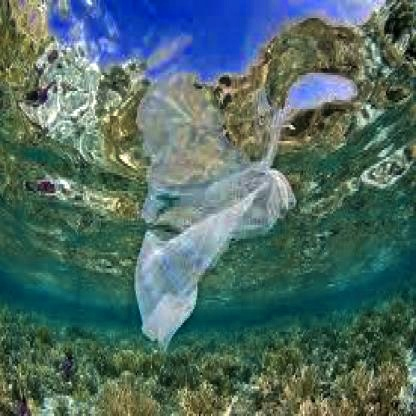pbag: (133, 166, 294, 348)
